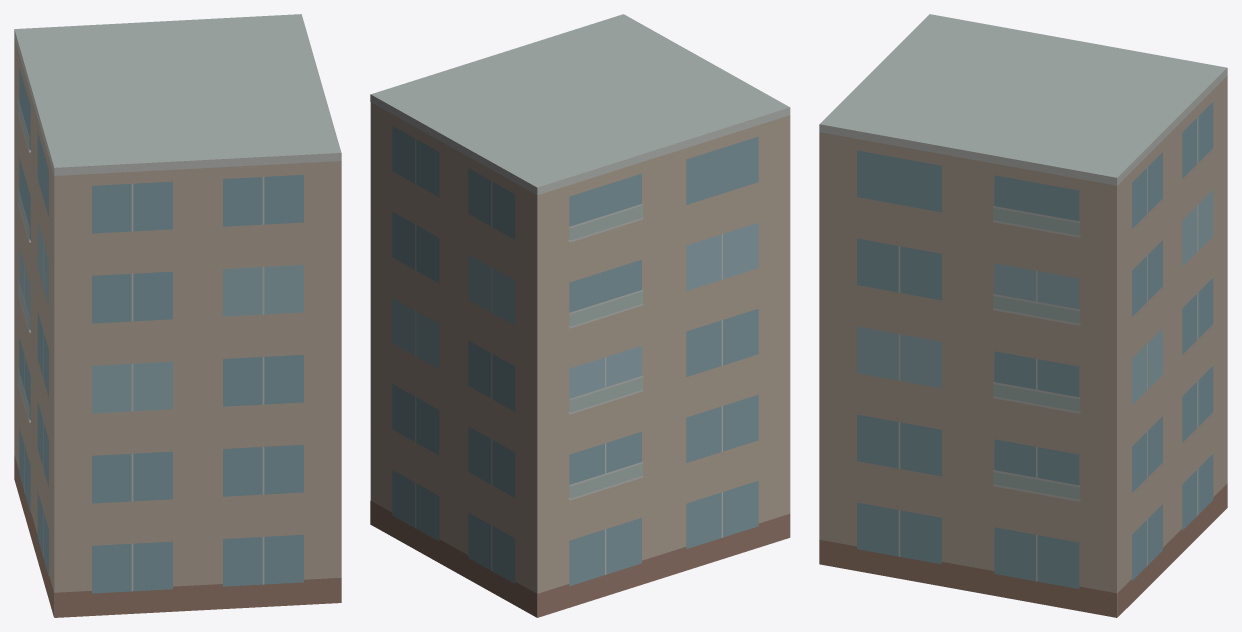
Rendered from survey-upis-32535474.glb.
The picture shows the model from 3 angles, left to right: view 1: azimuth 30°, elevation 25°; view 2: azimuth 150°, elevation 25°; view 3: azimuth 270°, elevation 25°; orthographic projection. The views are drawn at different scales.
Visible parts, largest first — view 1: survey-upis-32535474.tmp; view 2: survey-upis-32535474.tmp; view 3: survey-upis-32535474.tmp.
Boxes of the visible parts, x1,y1,x2,y2 form: survey-upis-32535474.tmp: (14,14,341,617); survey-upis-32535474.tmp: (370,14,790,617); survey-upis-32535474.tmp: (819,14,1227,617).
Bounding box in the file's own units: 10.87 × 13.6 × 11.44.
